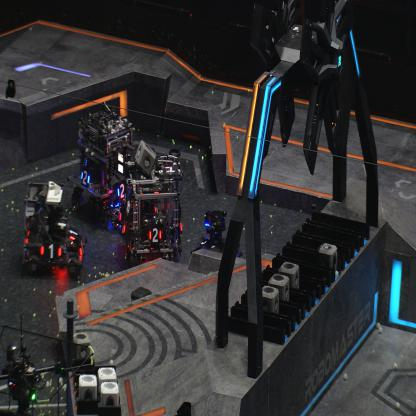car: (68, 103, 134, 226), (120, 150, 184, 266), (21, 179, 88, 278), (189, 208, 242, 273)
